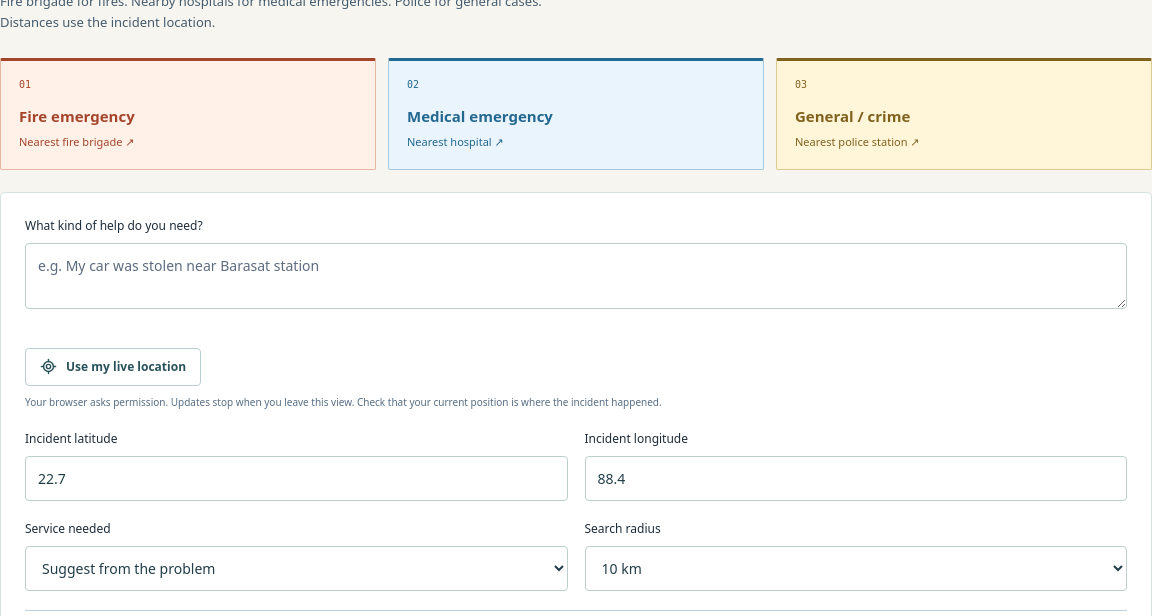
Scenario: offers a map search for empty coverage and hides results after location changes
Select "Police station" in the dropdown labelled "Service needed" at (296,569), box [25,546,568,591]
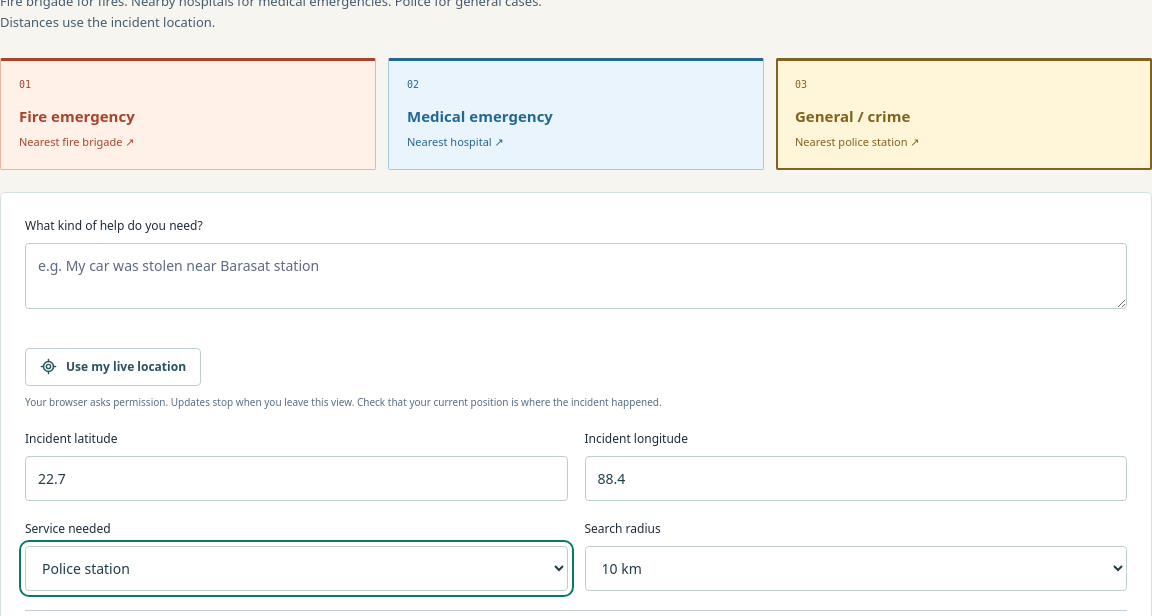
Click the button "Use my live location" at (113,367), box [25,348,201,386]
(page scrolled)
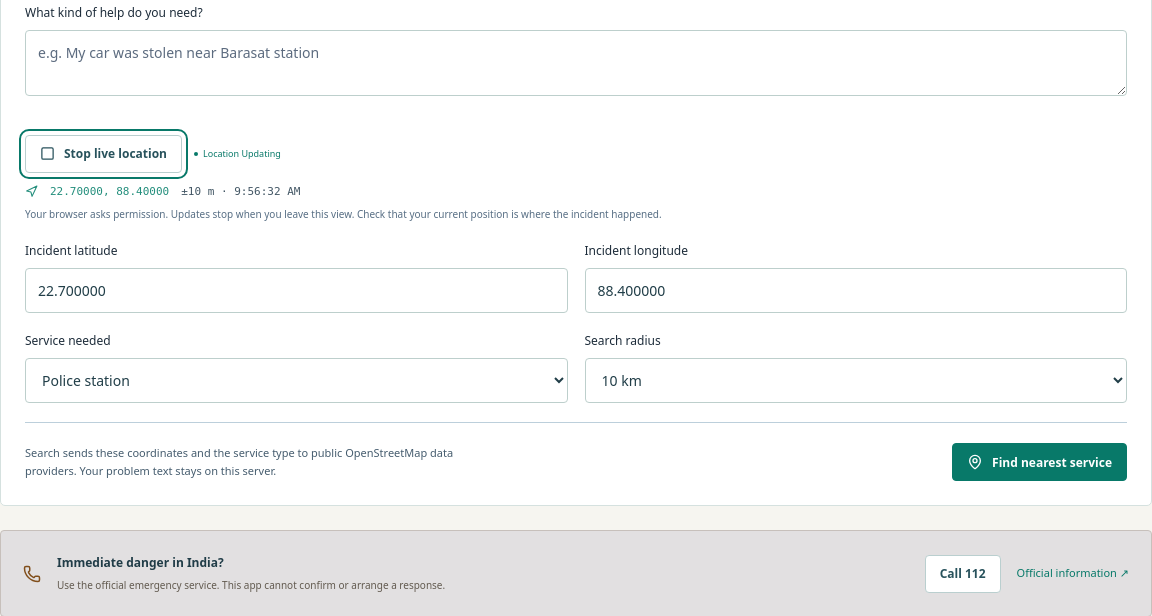
Click the button "Find nearest service" at (1040,462), box [952,443,1127,481]
(page scrolled)
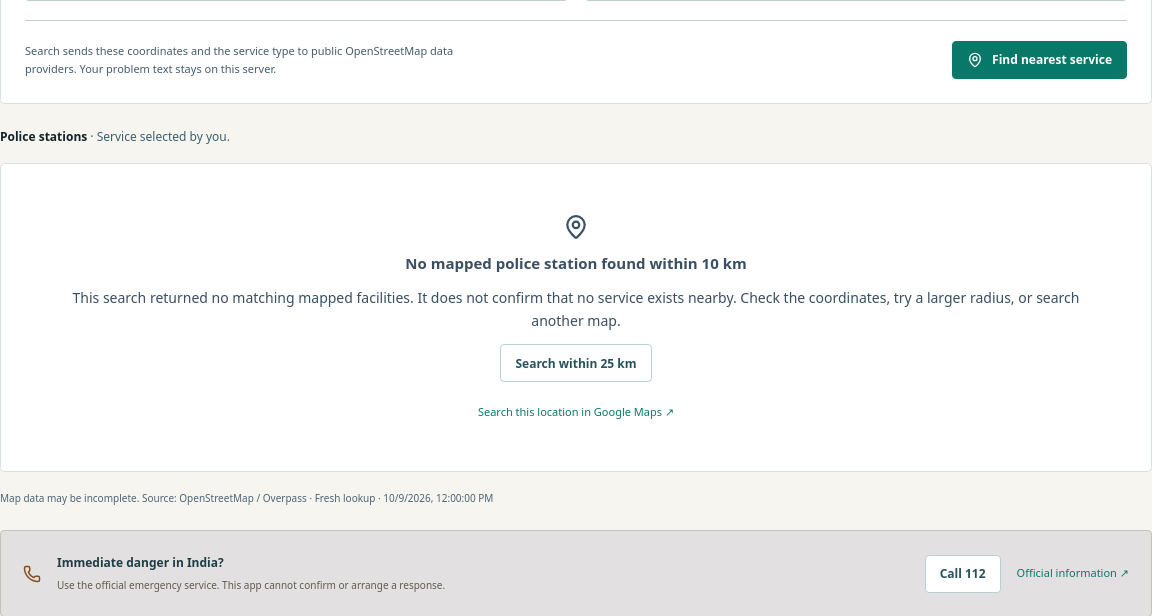
Expected: the text "does not confirm that no service exists" is shown, [72,288,1080,330]
Click the button "Search within 25 km" at (576,363), box [500,344,652,382]
(page scrolled)
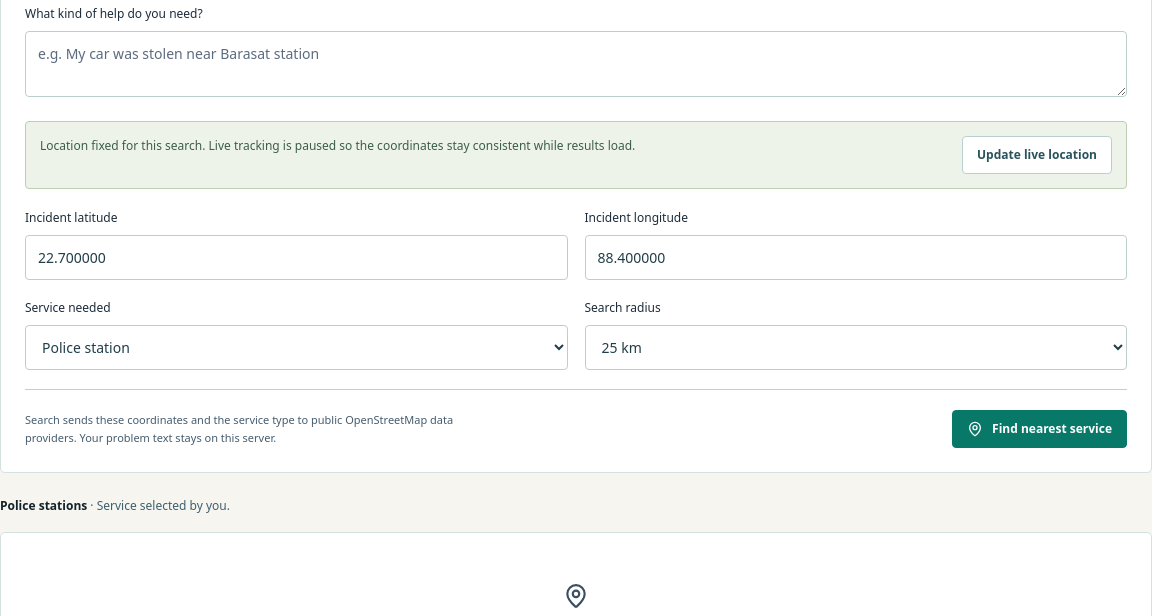
Replace the text in the number field labelled "Incident latitude" with "22.8" at (296,257), box [25,235,568,280]
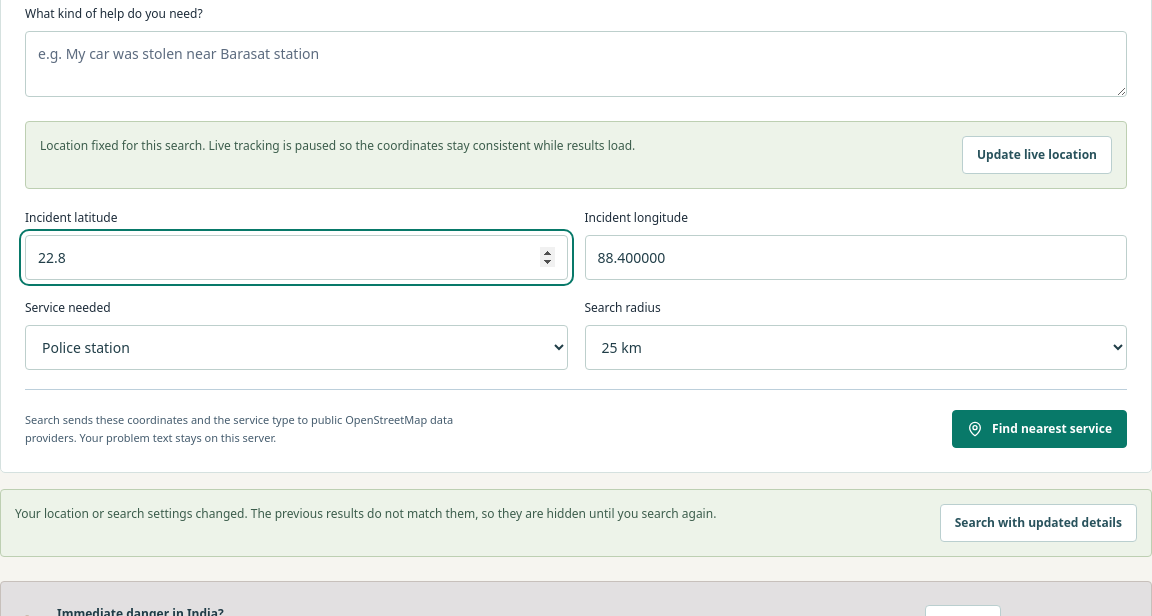
Expected: the text "No mapped police station found" is not shown
Click the button "Search with updated details" at (1038,523), box [940,504,1137,542]
(page scrolled)
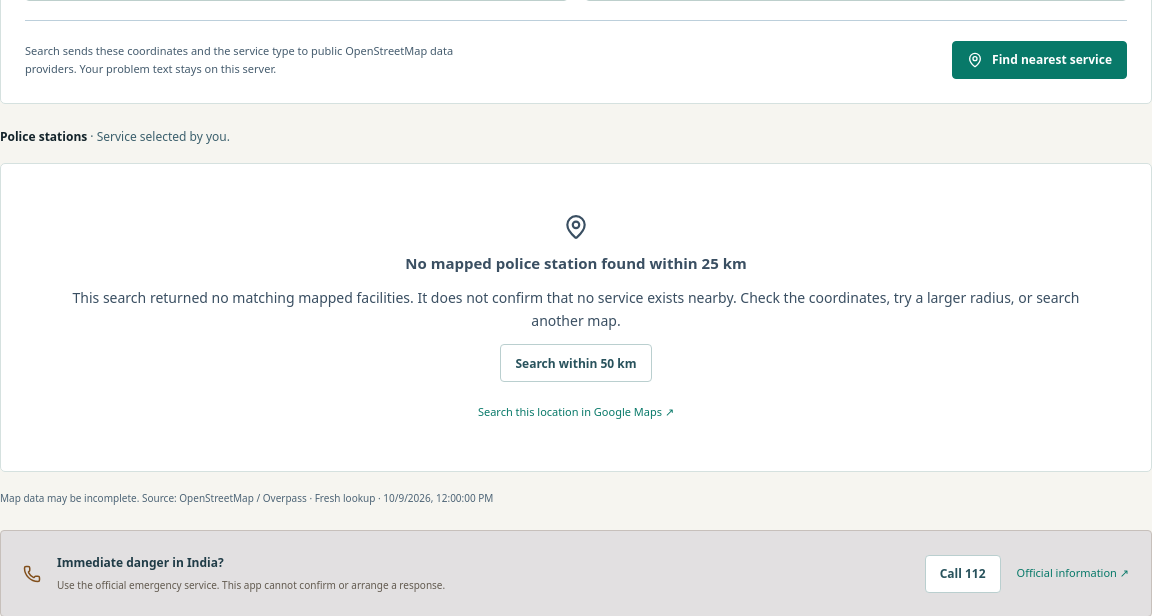
Expected: the heading "No mapped police station found within 25 km" is shown, [405,252,747,274]
